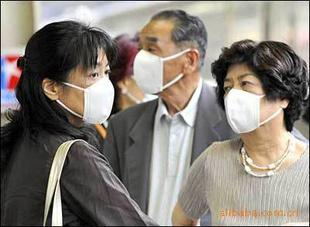OK: (51, 59, 116, 124), (225, 71, 287, 133), (135, 35, 197, 97)
